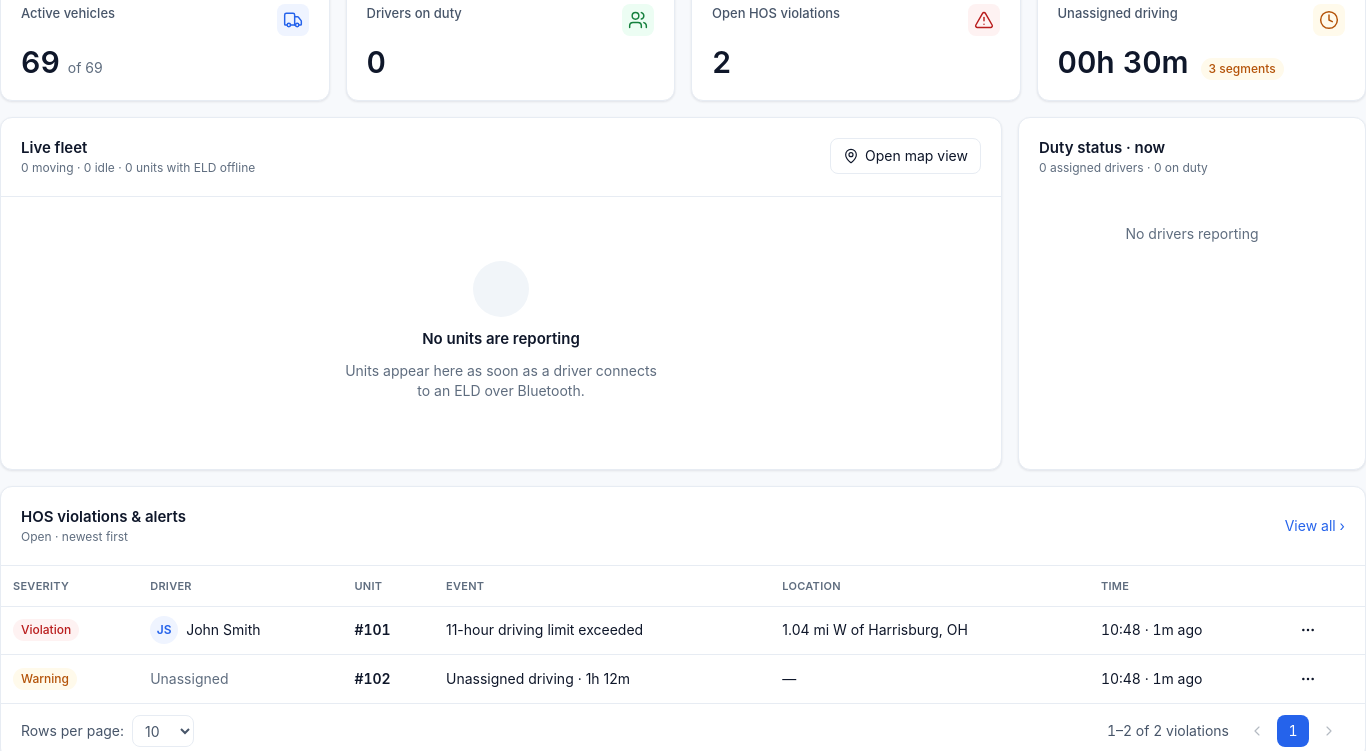
it: W-01 Fleet Dashboard › HOS violations & alerts · row menu › Assign to driver deep-links to 11.13 Unassigned driving on the violation day
This screenshot has width=1366, height=751.
Expected: the text "11-hour driving limit exceeded" is shown, top-left (434, 606), bottom-right (770, 654)
Click the button named "Row actions" in the row of "Warning" at (1308, 679), box top-left (1292, 663), bottom-right (1324, 695)
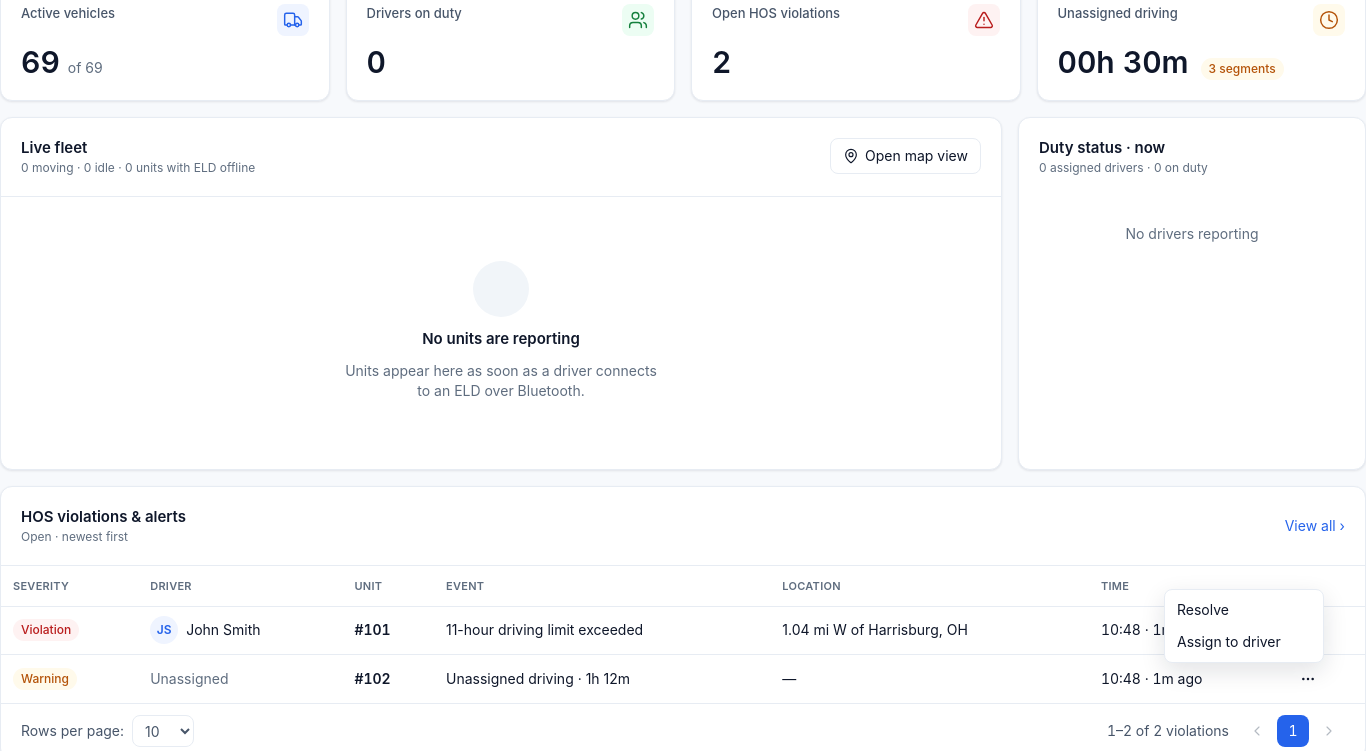
Click the menu item "Assign to driver" at (1229, 642), box top-left (1177, 633), bottom-right (1281, 650)
(page scrolled)
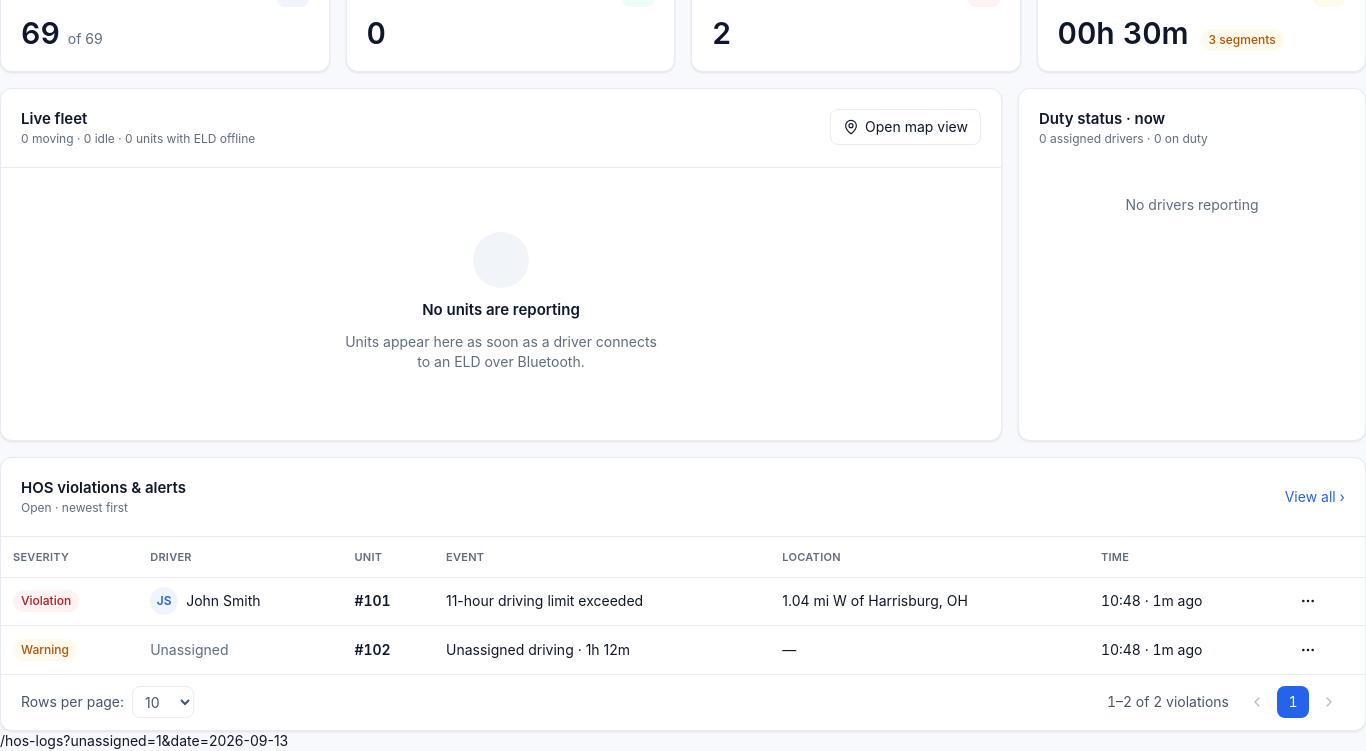
Now the text with test id "location" reads "/hos-logs?unassigned=1&date=2026-09-13", box top-left (0, 732), bottom-right (288, 748)
